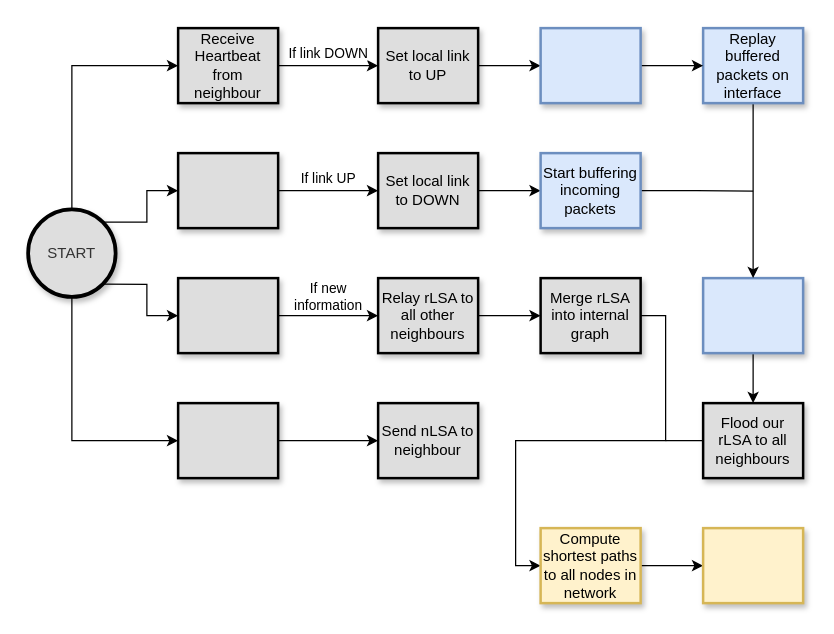
Image size: 834x634. Some labels were removed from this diagram. Here are the shapes that lost their labels. From the top down, the centre of each, then its label:
the point at 591,66: Stop buffering packets
the point at 228,192: Heartbeat Timeout
the point at 228,316: Receive rLSA from neighbour
the point at 753,316: Compute local link metrics, copy to global graph
the point at 228,442: Receive nLSA request from neighbour
the point at 753,566: Update Unix routing table
